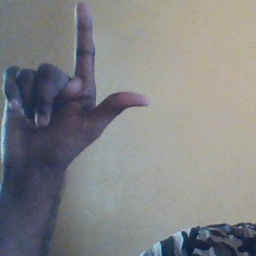L: (1, 1, 154, 174)
